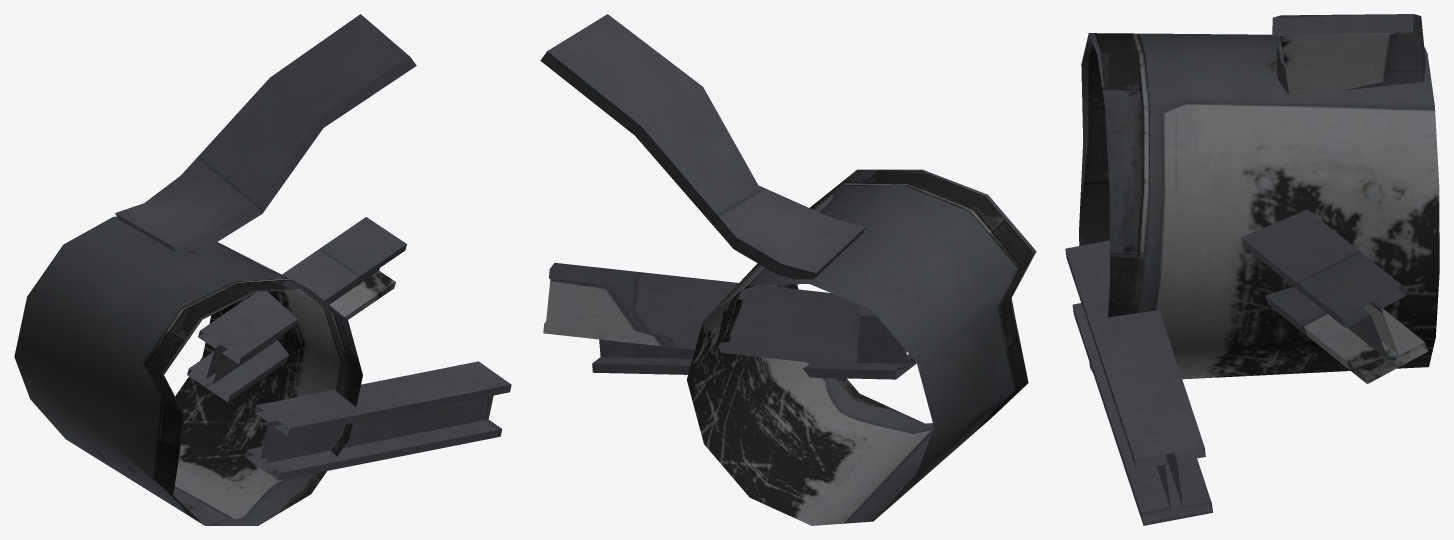
The model's file is HCD12.fbx.
3 renders of one model, left to right at view 1: azimuth 30°, elevation 25°; view 2: azimuth 150°, elevation 25°; view 3: azimuth 270°, elevation 25°, orthographic. The views are drawn at different scales.
Visible parts, largest first — view 1: twelveD; view 2: twelveD; view 3: twelveD.
Boxes of the visible parts, left/top/right/bottom form: twelveD: left=14, top=14, right=511, bottom=525; twelveD: left=540, top=14, right=1036, bottom=525; twelveD: left=1065, top=14, right=1439, bottom=525.
Size of the model in its own units: 5749 by 5136 by 3484.
Materials: 1 (1 with a texture image).
